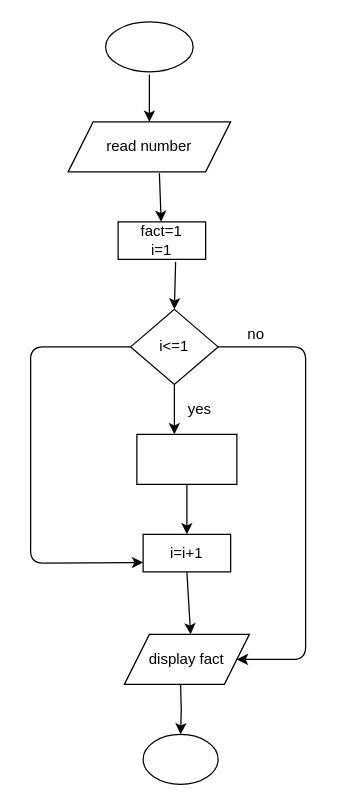
Some shapes in this 338 by 806 pixel diagram are drawn without their labels. Here are the shapes that lost their labels. From the top down, the box of each, then its label:
(104, 21, 193, 72): start
(136, 433, 237, 484): fact=fact*i
(142, 733, 218, 784): stop
